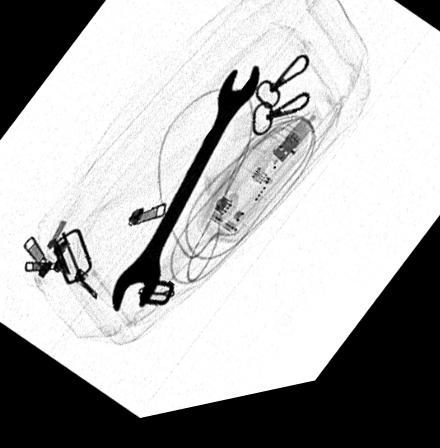Wrench: (110, 74, 261, 315)
